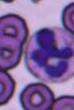N: (24, 28, 74, 82)
